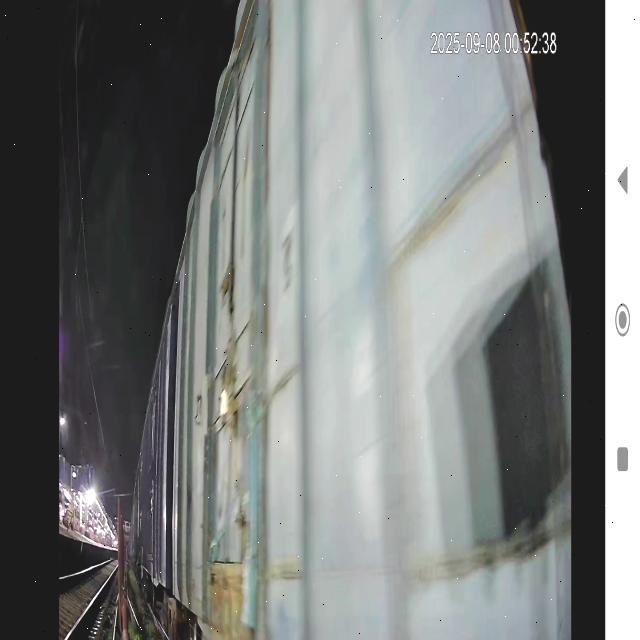coach: (178, 6, 571, 640)
